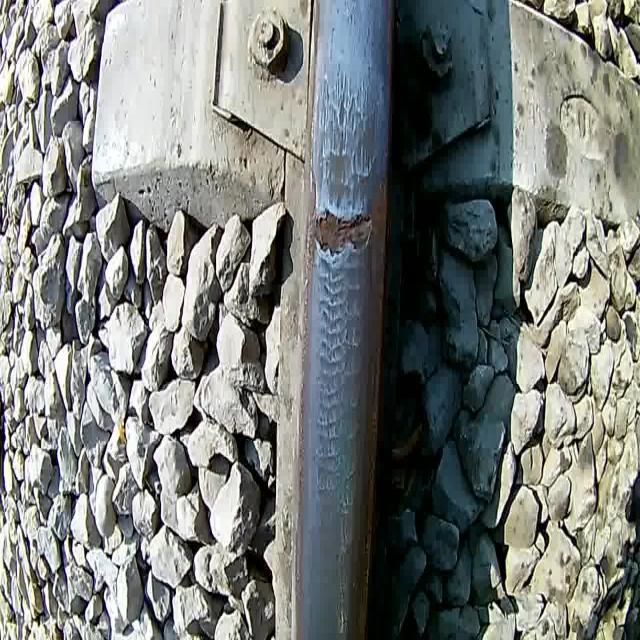Cracks: (337, 458, 359, 640)
Spallings: (309, 206, 377, 258)
Squats: (310, 249, 369, 509), (312, 50, 386, 210)
